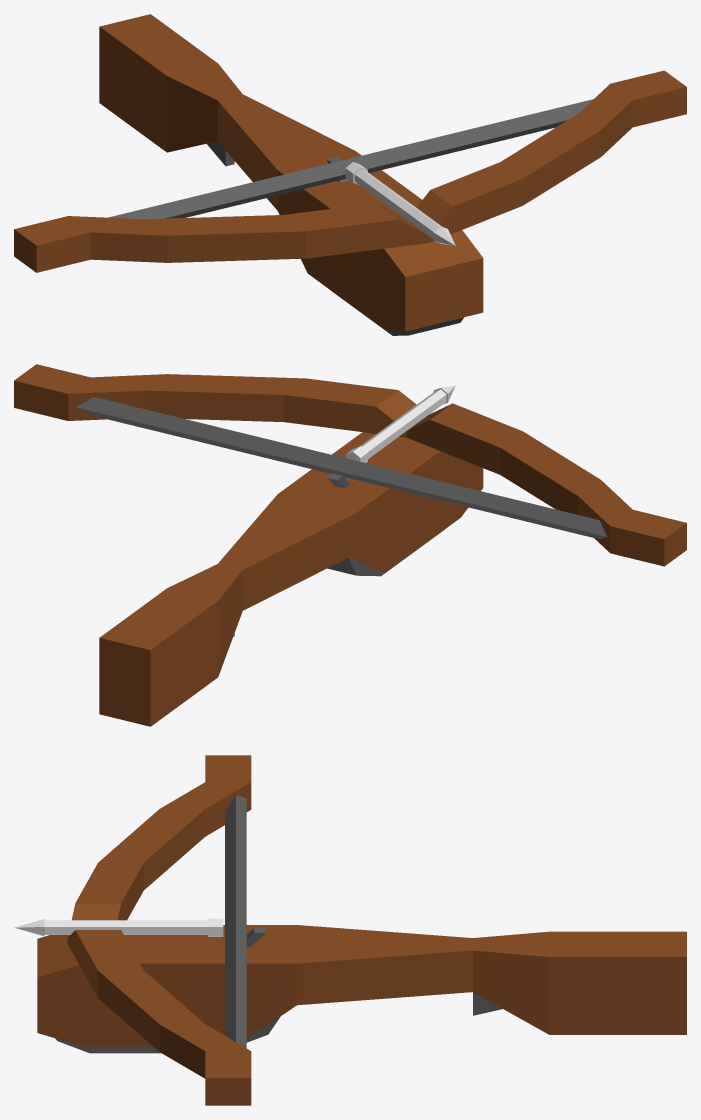
File: CrossbowV2.fbx
The picture shows the model from 3 angles, top to bottom: view 1: azimuth 30°, elevation 25°; view 2: azimuth 150°, elevation 25°; view 3: azimuth 270°, elevation 25°; orthographic projection.
Visible parts, largest first — view 1: PrototypeCrossbow, Arrow; view 2: PrototypeCrossbow, Arrow; view 3: PrototypeCrossbow, Arrow.
Boxes of the visible parts, box(x1,y1,x2,y2) form: PrototypeCrossbow: box(14, 14, 686, 335); Arrow: box(345, 162, 455, 245); PrototypeCrossbow: box(14, 364, 686, 726); Arrow: box(345, 385, 455, 462); PrototypeCrossbow: box(37, 755, 686, 1105); Arrow: box(14, 918, 223, 936).
Bounding box in the file's own units: 82.57 × 16.74 × 93.75.
